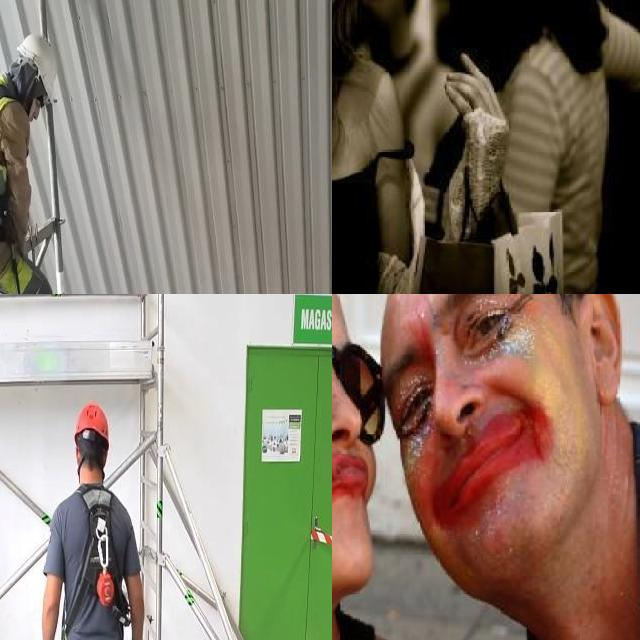Harness: (63, 487, 131, 640)
No_Ear-Protection: (576, 294, 627, 410)
face_nomask: (383, 302, 546, 516), (332, 317, 377, 542)
glasses: (332, 319, 390, 442)
hand_noglove: (432, 46, 521, 145)
person: (374, 294, 640, 640), (332, 0, 524, 294)
